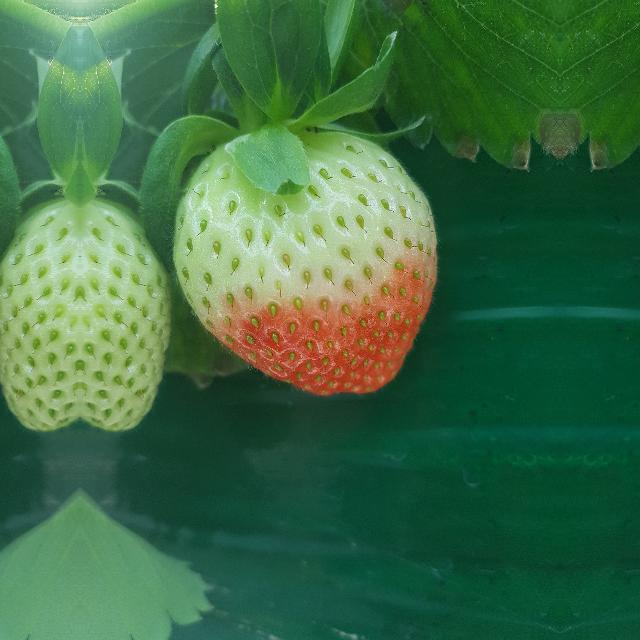Health_25: (80, 196, 170, 430), (0, 196, 80, 429)
Health_50: (168, 128, 440, 400)
